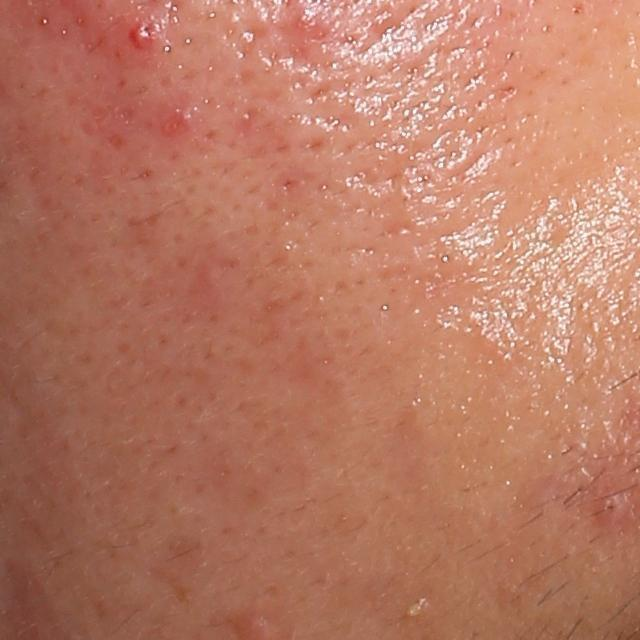papule: (129, 10, 167, 54), (596, 486, 629, 525), (291, 3, 322, 37)
